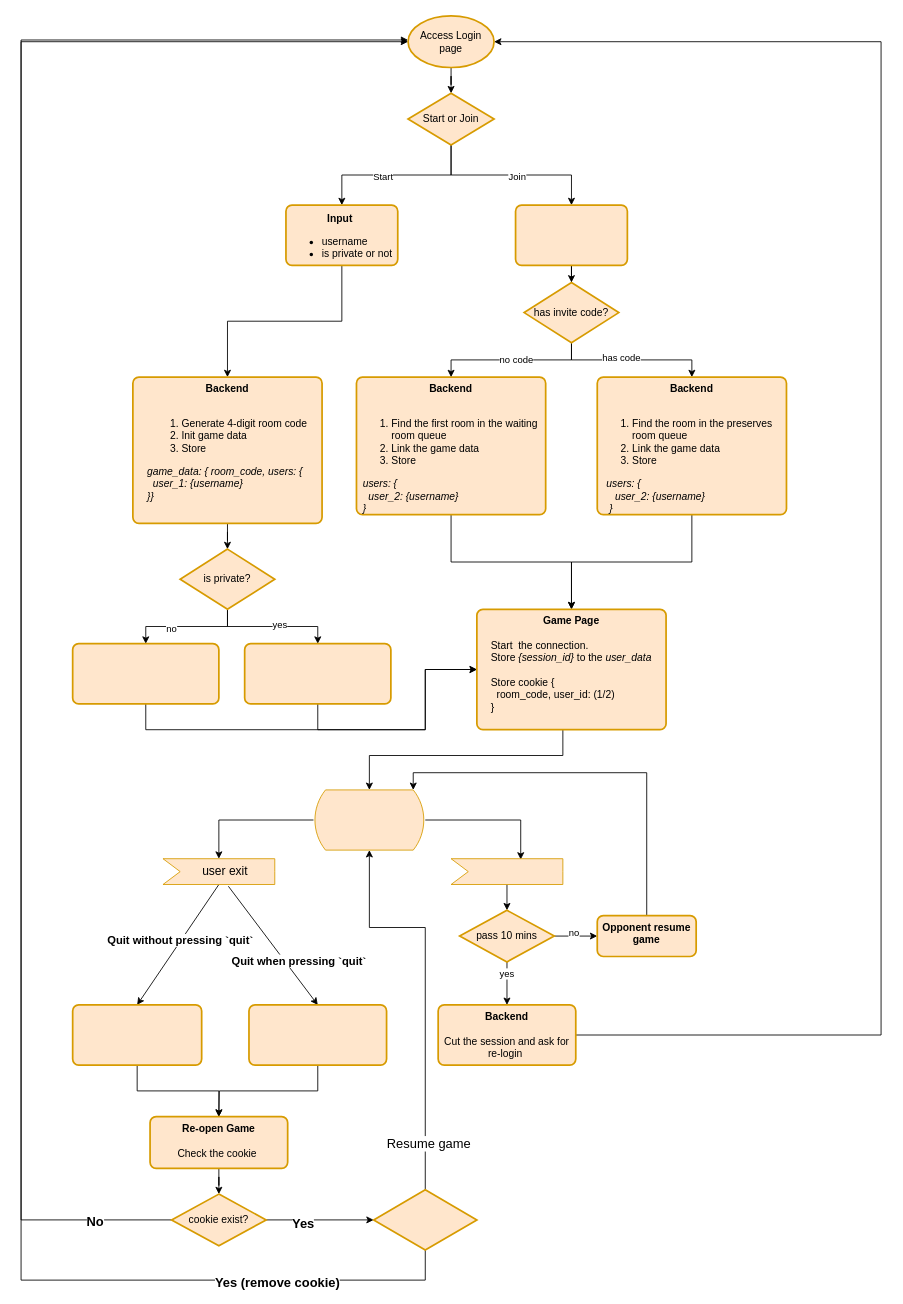
Image size: 903x1304. Some labels were removed from this diagram. Each missing label, with the centre of its shape:
"Backend Remove the game data Remove cookie" goes at (x=317, y=1035).
"Backend Set the data expire time to 10 mins." goes at (x=136, y=1035).
"Backend Store `room_code` to the preserves room queue." goes at (x=317, y=673).
"Backend Store `room_code` to the waiting room queue." goes at (x=145, y=673).
"Game Loop" goes at (x=369, y=819).
"Input username [optional] invite cide" goes at (x=571, y=235).
"opponent exit" goes at (x=506, y=871).
"The room data expire?" goes at (x=424, y=1219).
